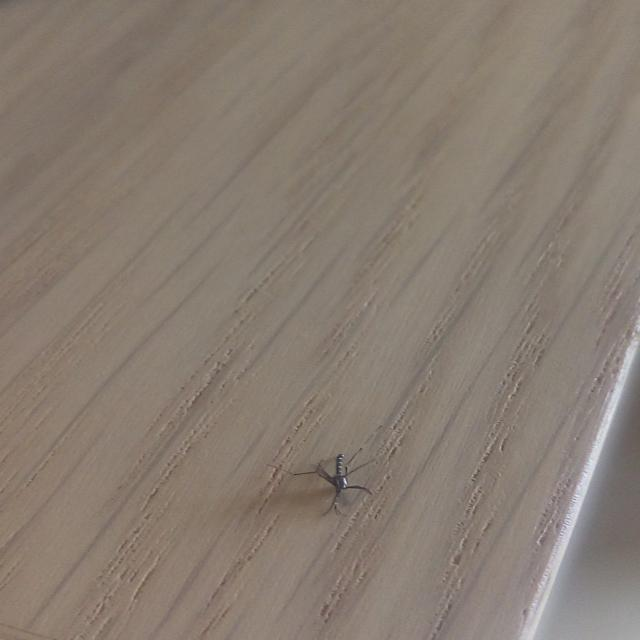albopictus: (254, 439, 385, 518)
